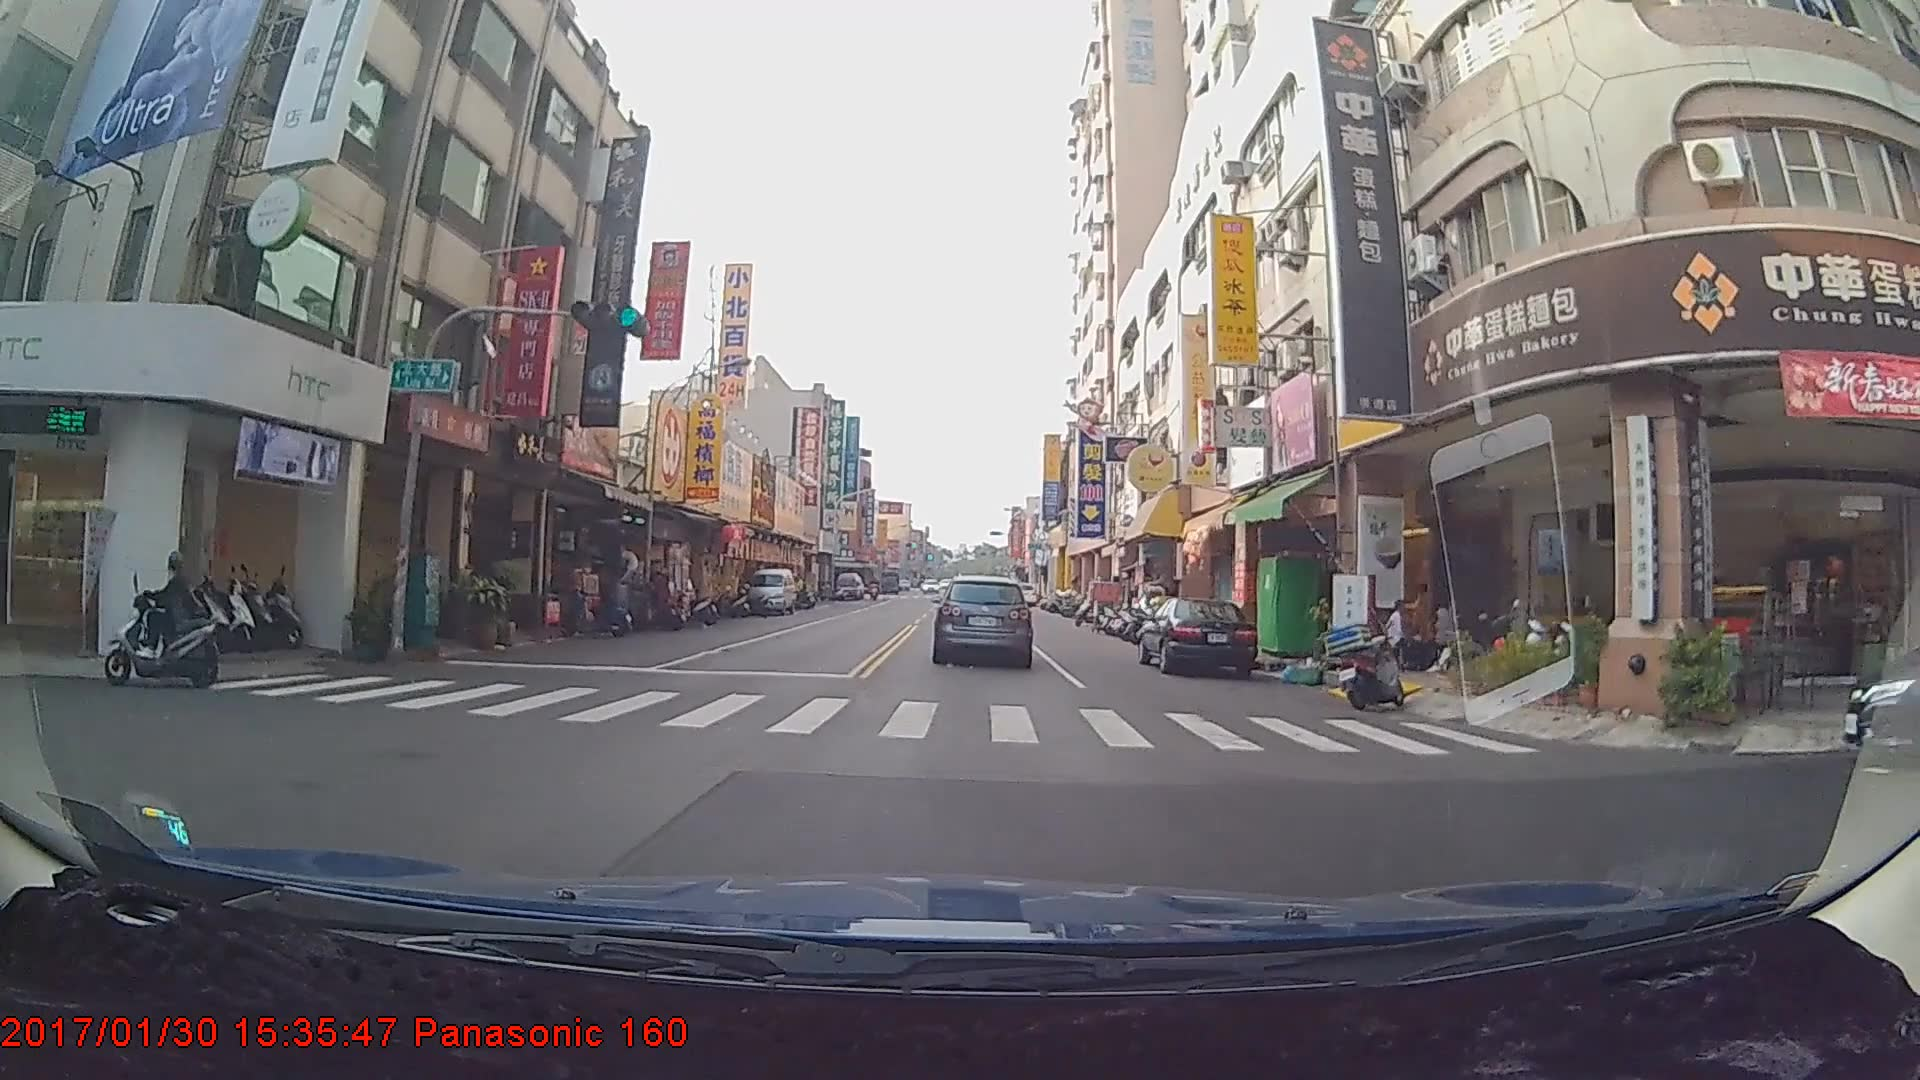pedestrian: (1380, 597, 1413, 674), (1423, 599, 1456, 675)
rider: (87, 553, 222, 689)
vehicle: (1144, 595, 1256, 677), (934, 576, 1032, 666), (741, 567, 794, 616), (835, 571, 865, 601)
